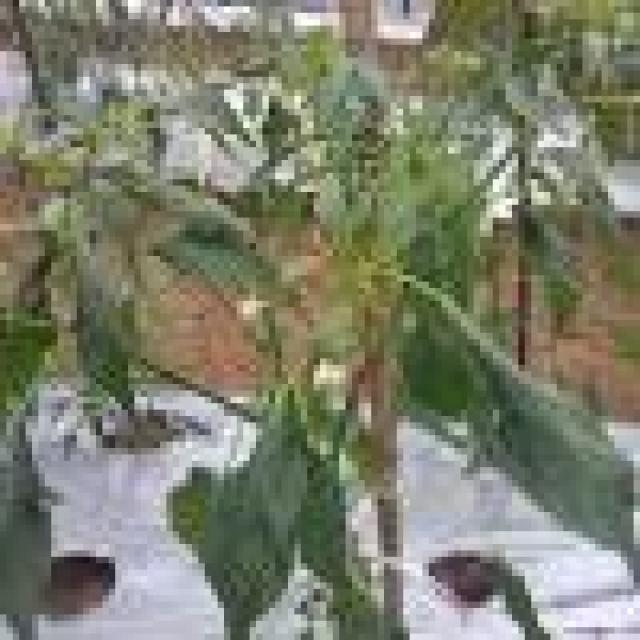Rust: (0, 10, 558, 445)
